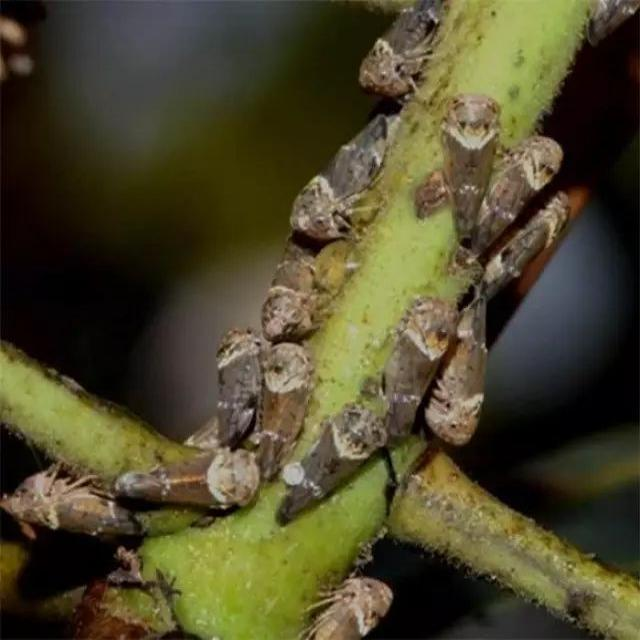Yechan: (6, 461, 148, 542), (110, 446, 259, 516), (434, 85, 490, 234)
